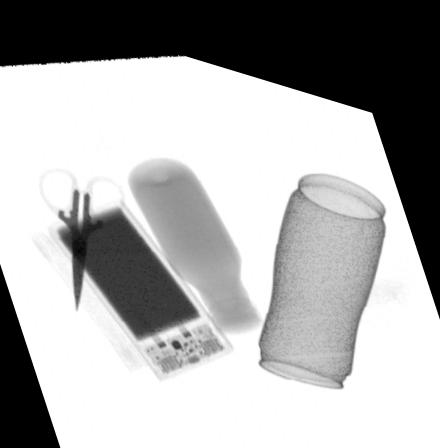Powerbank: (46, 191, 236, 371)
Scissors: (33, 164, 126, 309)
